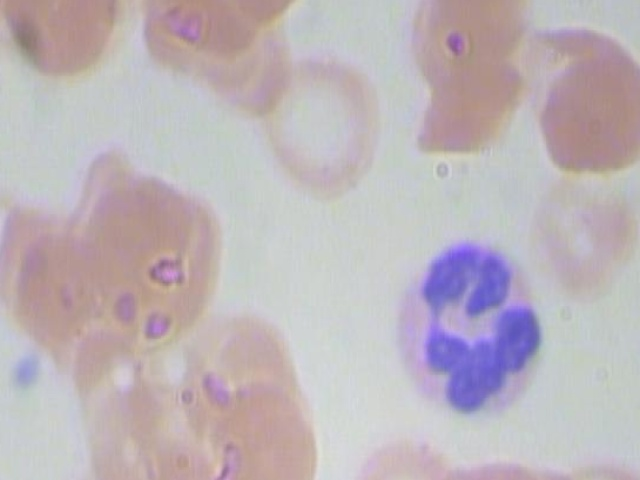Platelets: (1, 346, 44, 393), (633, 0, 640, 15)
RBC: (251, 49, 400, 212), (96, 171, 245, 334), (395, 36, 534, 174), (515, 34, 640, 184), (0, 208, 118, 355), (521, 162, 632, 299), (77, 362, 198, 480), (203, 369, 323, 480), (0, 0, 131, 87), (129, 0, 267, 64), (419, 0, 557, 64), (338, 422, 458, 480), (469, 437, 590, 480), (426, 440, 547, 480), (549, 437, 640, 480)
WBC: (368, 230, 562, 426)
